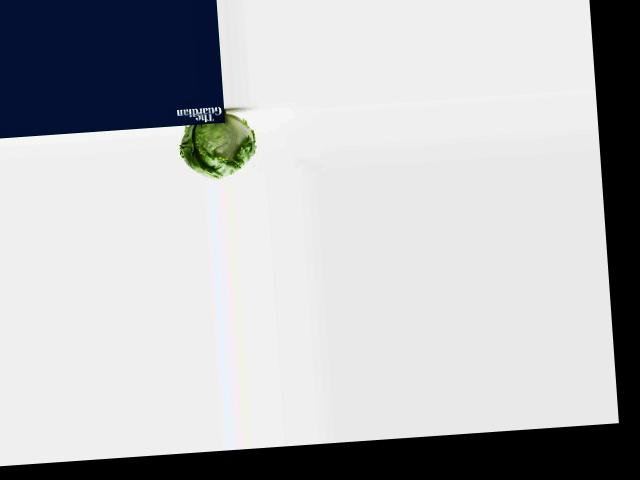lettuce: (179, 112, 257, 184)
